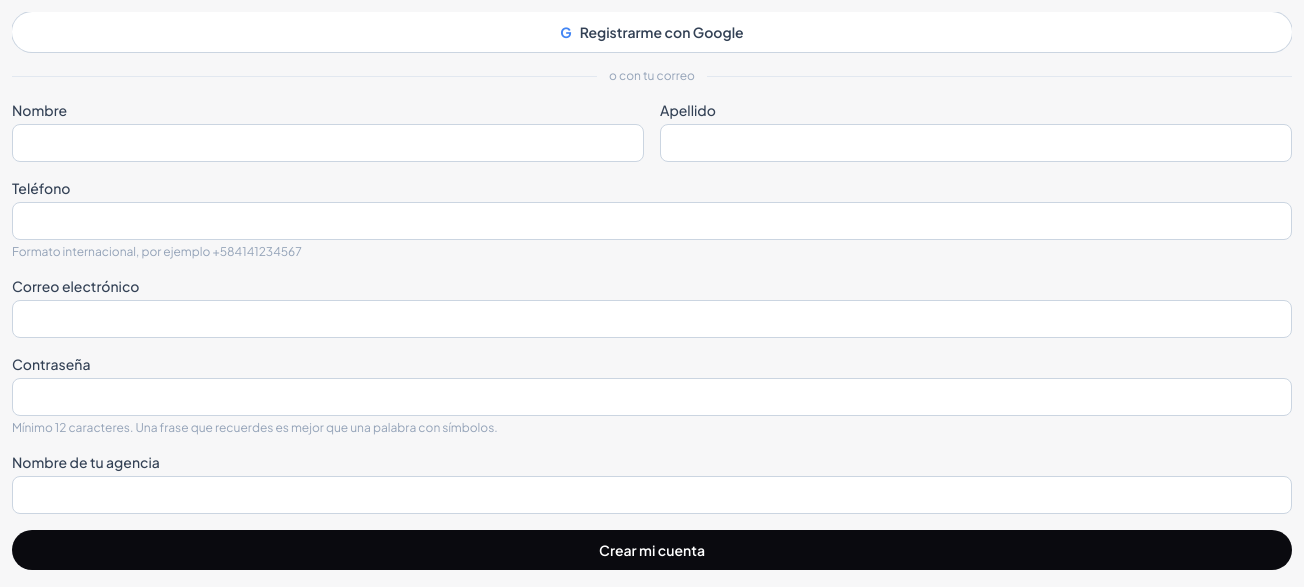
Scenario: FormularioDeRegistro › con todo valido envia los datos y pide revisar el correo
The width and height of the screenshot is (1304, 587).
Type "Mauro" into the field labelled "Nombre". click: (328, 143)
box: [12,124,644,162]
Type "Gorrin" into the field labelled "Apellido". click: (976, 143)
box: [660,124,1292,162]
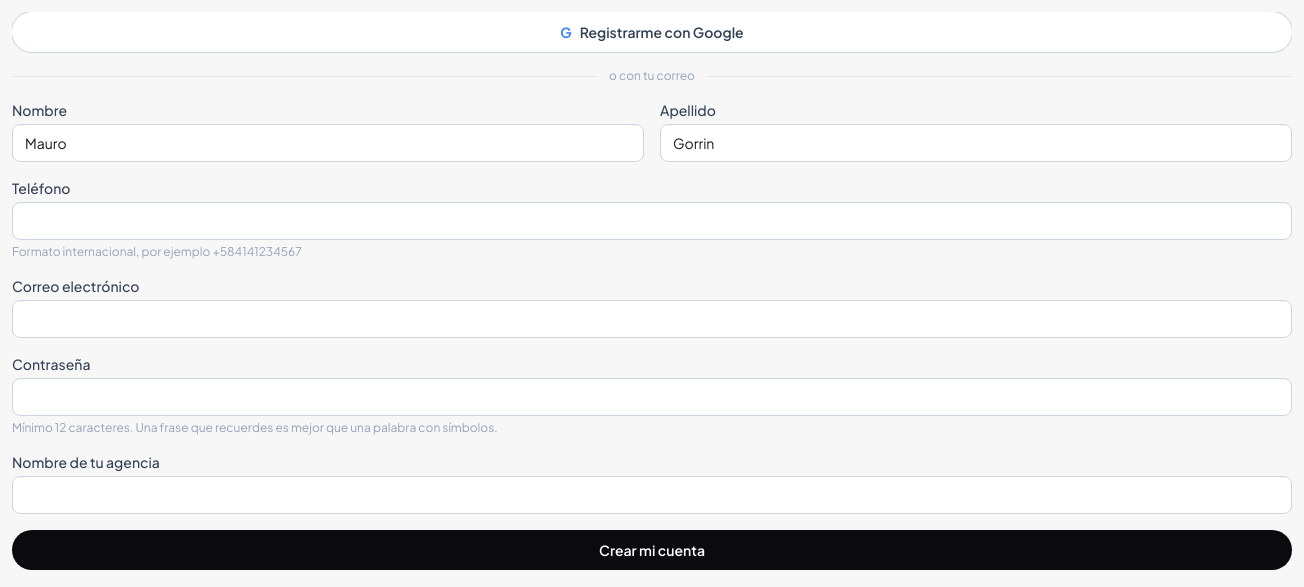
Type "+584141234567" into the field labelled "Teléfono". click: (652, 221)
box: [12,202,1292,240]
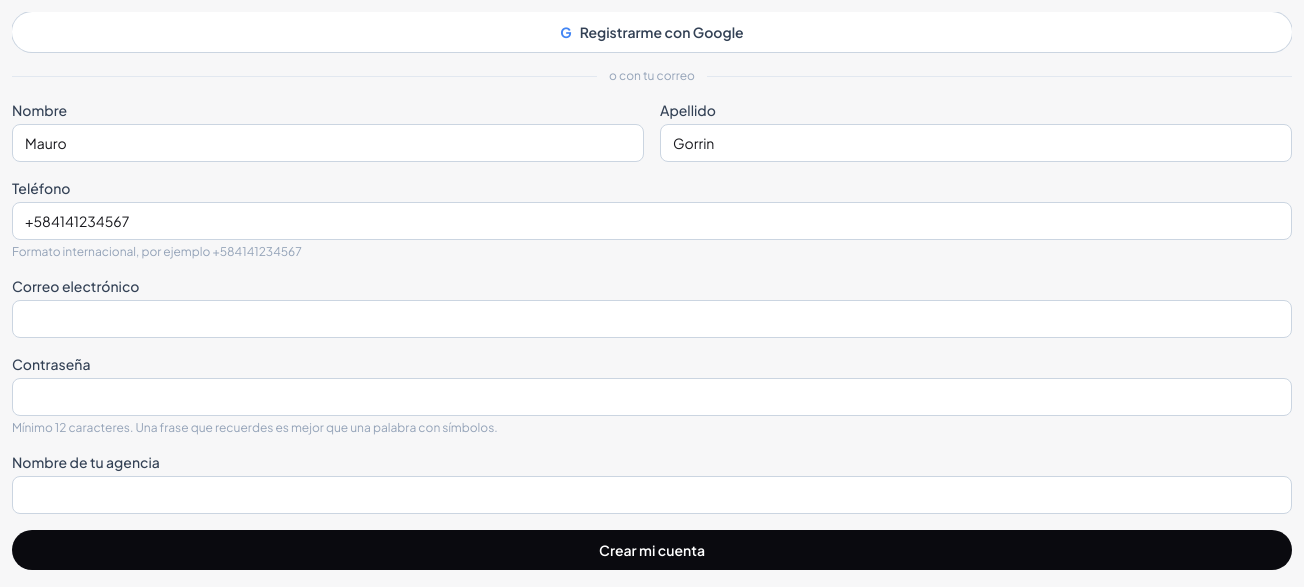
Type "mauro@ejemplo.com" into the field labelled "Correo electrónico". click: (652, 319)
box: [12,300,1292,338]
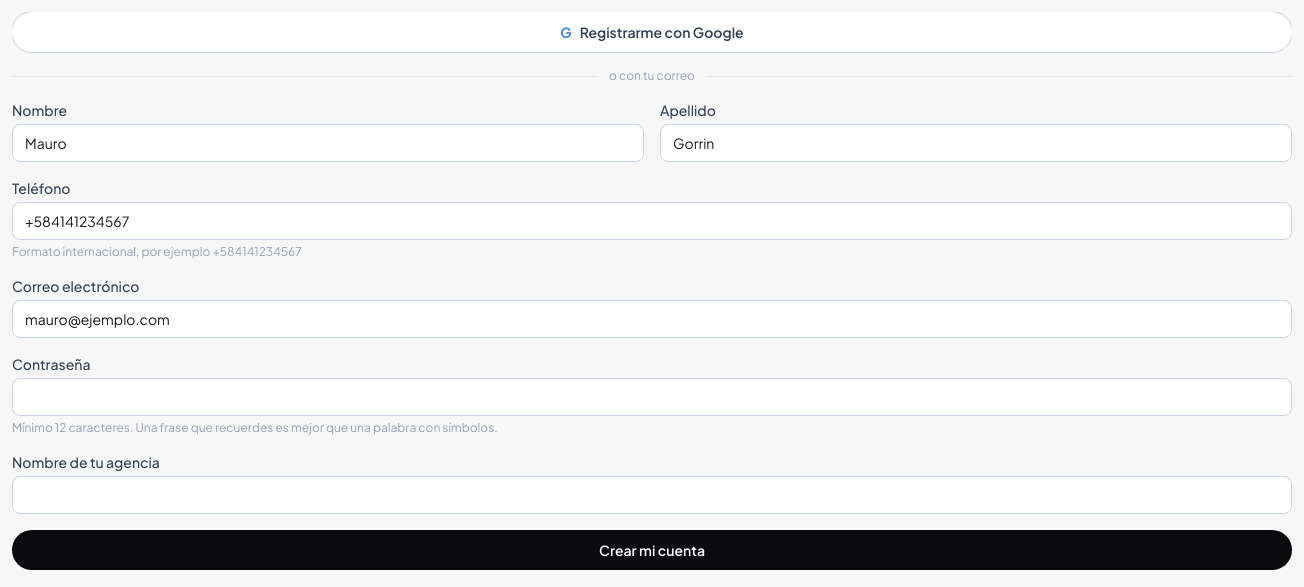
Type "una-clave-larga-123" into the password field labelled "Contraseña". click: (652, 397)
box: [12,378,1292,416]
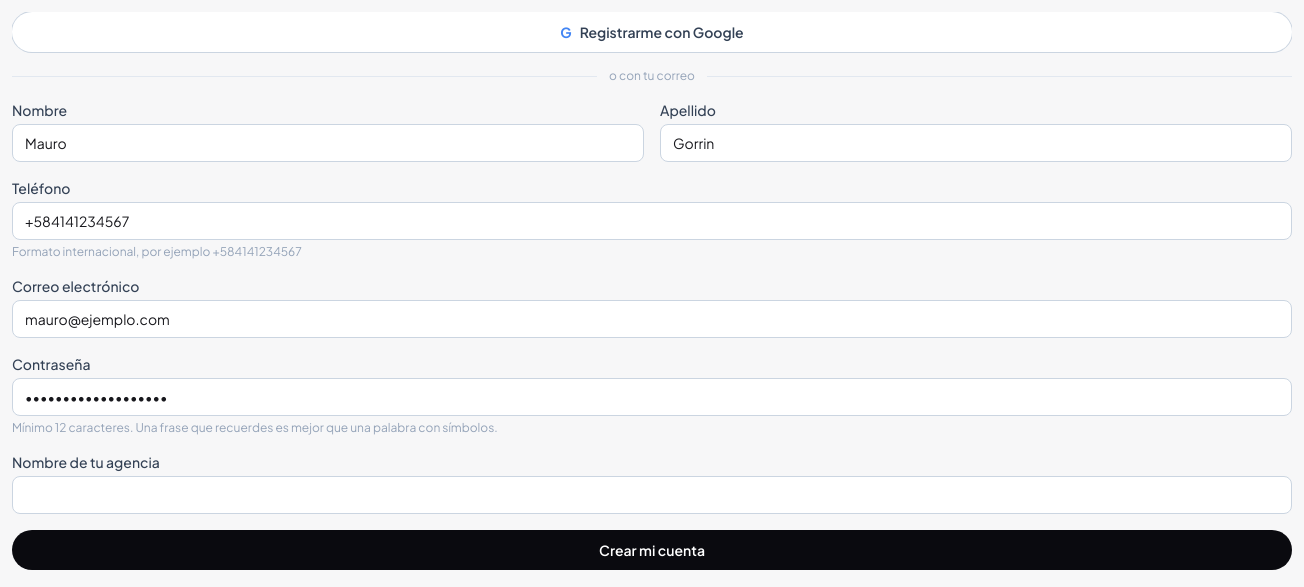
Type "Estudio Norte" into the field labelled "Nombre de tu agencia". click: (652, 495)
box: [12,476,1292,514]
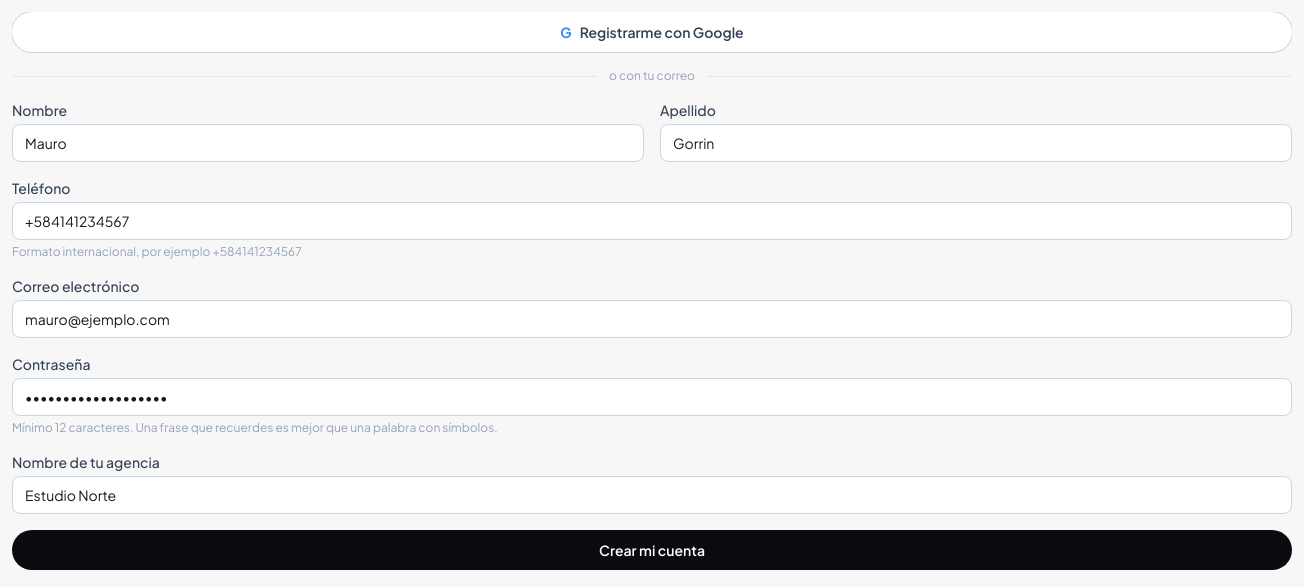
Click the button "Crear mi cuenta". click: (652, 550)
box: [12,530,1292,570]
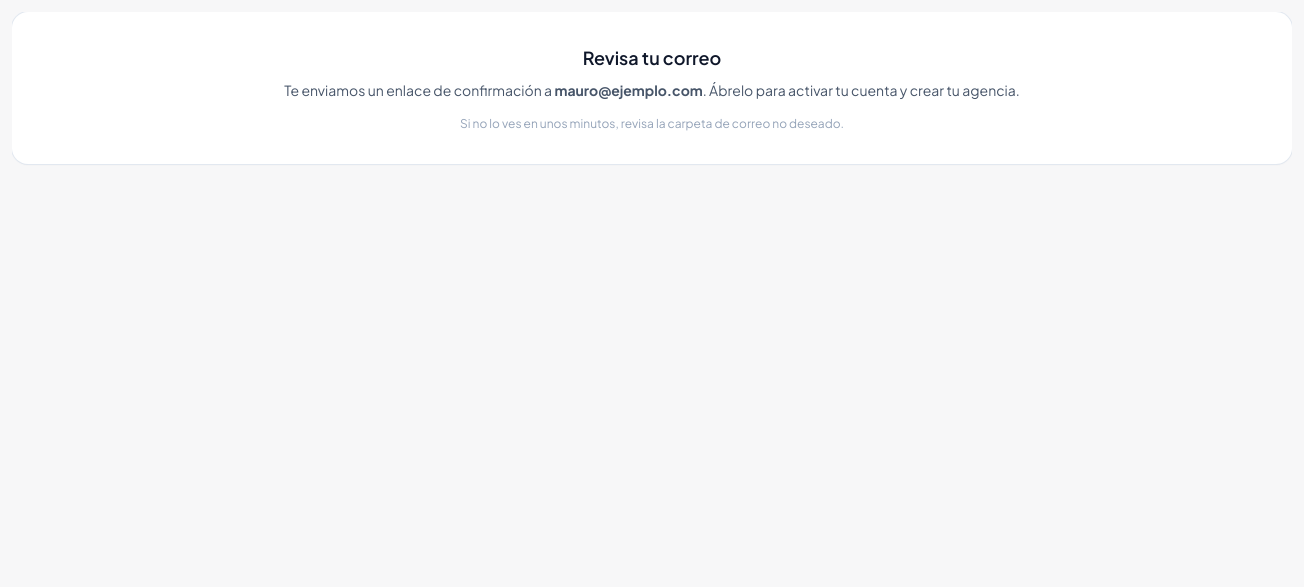
Check: the heading "Revisa tu correo" is shown, box [583,46,721,69]
